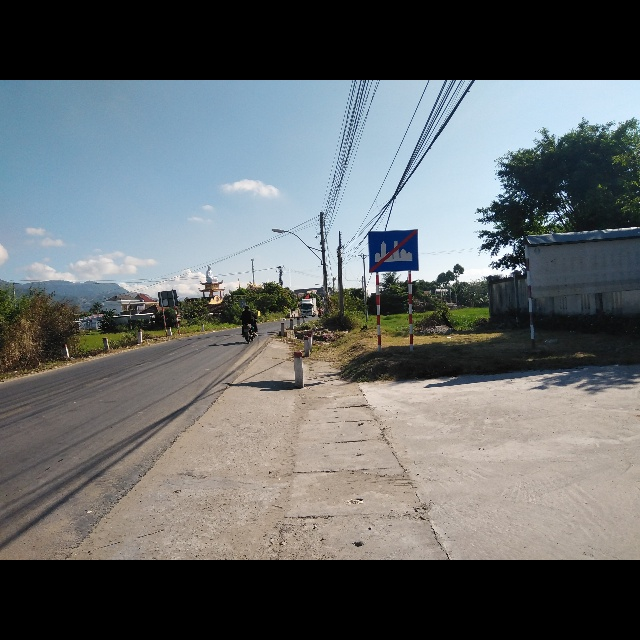Hết khu đông dân cư: (367, 228, 420, 271)
